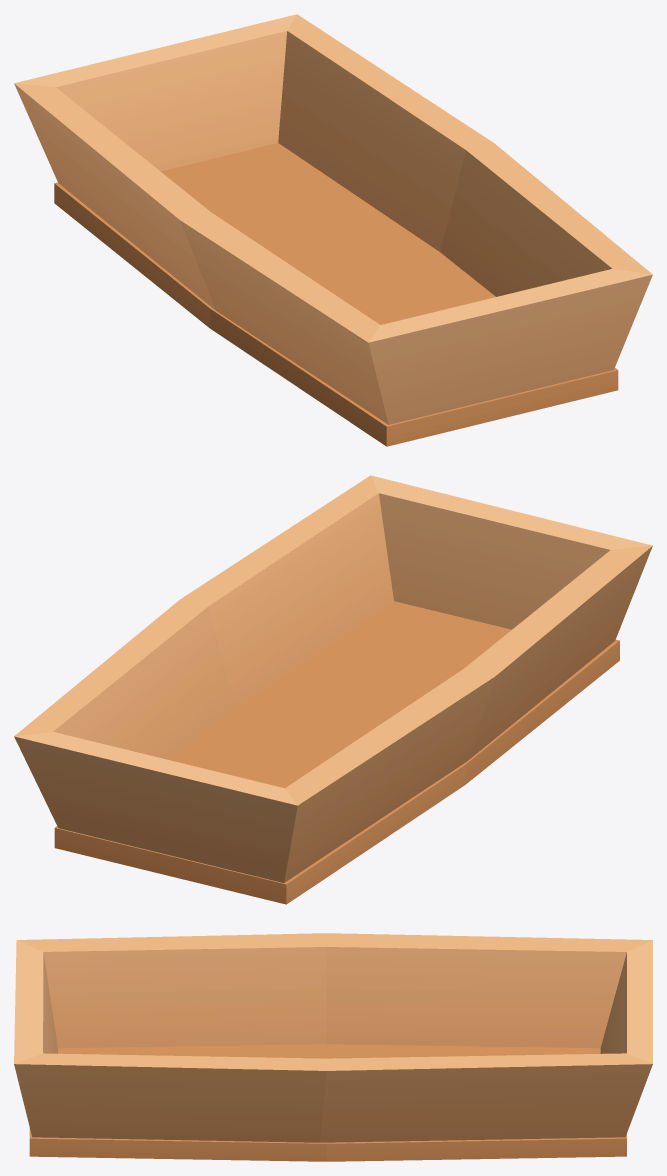
The model's file is Box_Cardboard_Small_001.gltf.
The picture shows the model from 3 angles, top to bottom: view 1: azimuth 30°, elevation 25°; view 2: azimuth 150°, elevation 25°; view 3: azimuth 270°, elevation 25°; orthographic projection. The views are drawn at different scales.
Visible parts, largest first — view 1: Box_Cardboard_Small_001_x; view 2: Box_Cardboard_Small_001_x; view 3: Box_Cardboard_Small_001_x.
Boxes of the visible parts, x1,y1,x2,y2 form: Box_Cardboard_Small_001_x: (14,14,652,446); Box_Cardboard_Small_001_x: (14,475,652,904); Box_Cardboard_Small_001_x: (14,933,652,1161).
Size of the model in its own units: 1 by 0.3514 by 1.96.
1 material, 1 textured.
